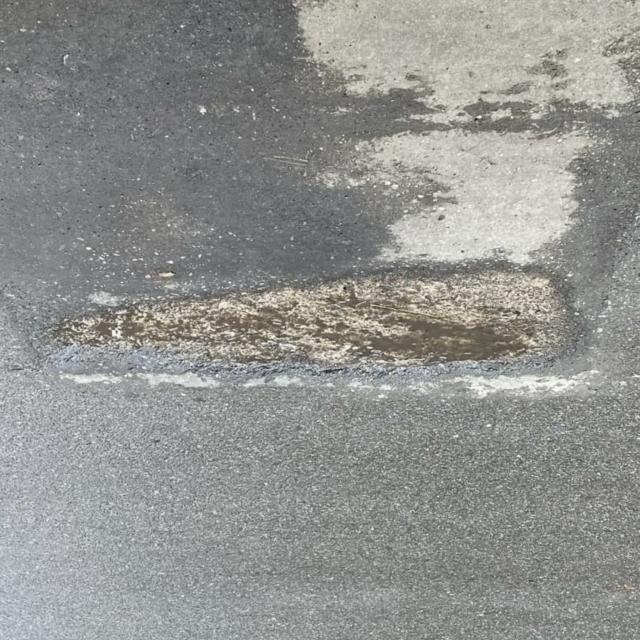pothole: (12, 215, 622, 408)
